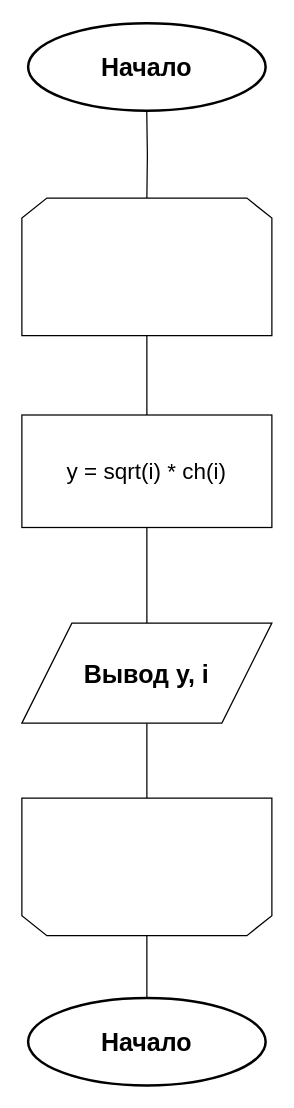
This 294x1108 diagram has some shape labels left out. The centre of each missing label's shape, as x and y in pixels:
i += 0,2: [146,866]
i = 3; i <= 4: [146,266]
